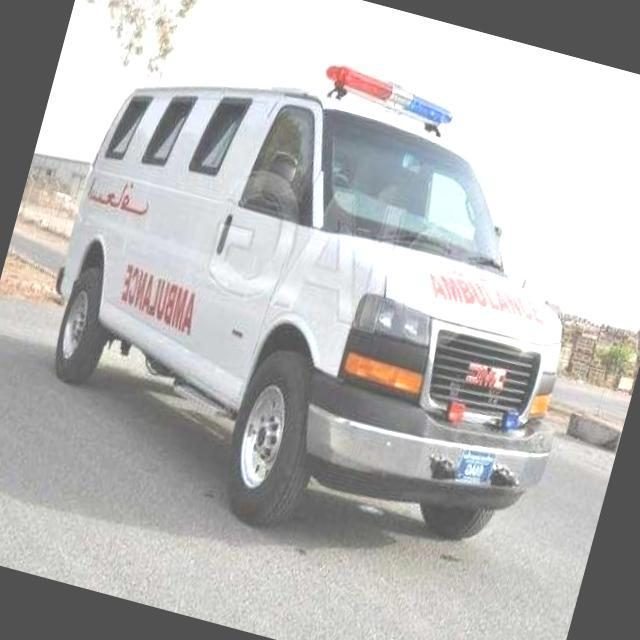emergency-vehicle: (9, 3, 632, 580)
